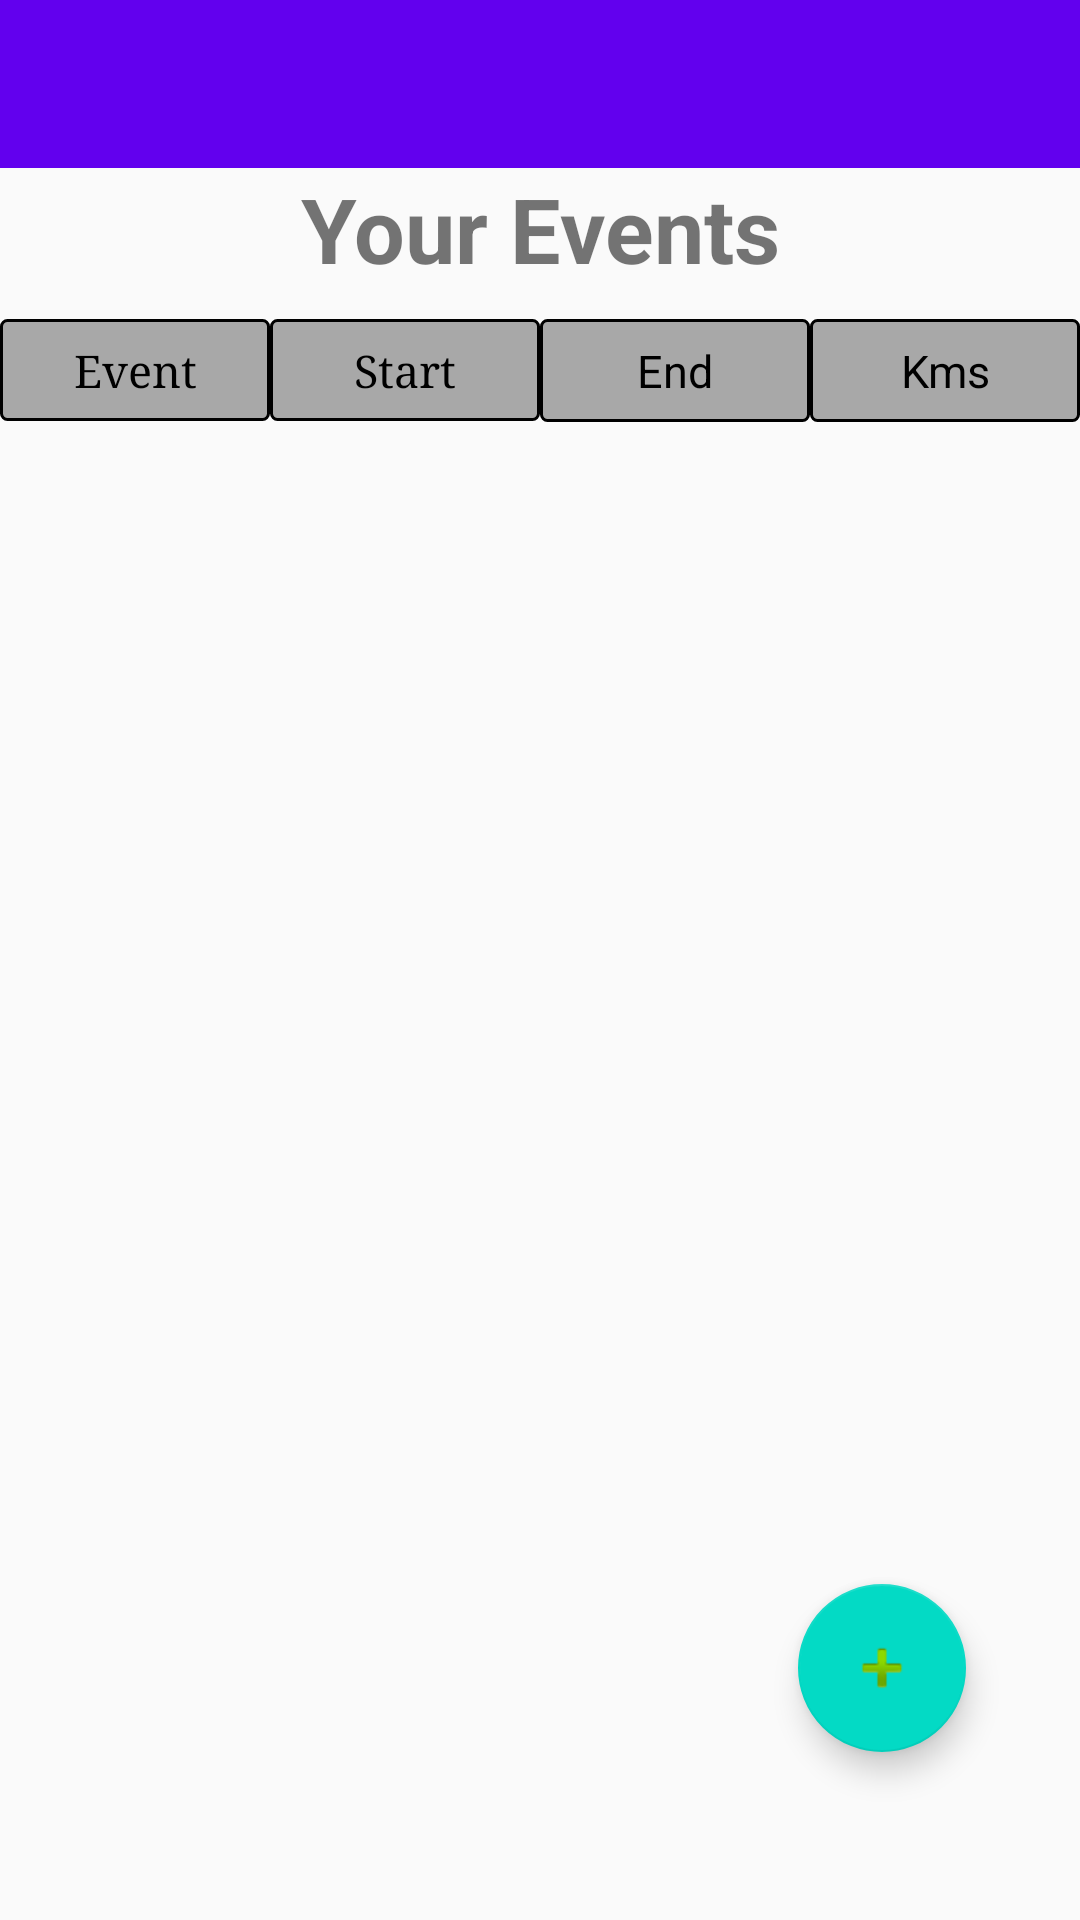

Icons on this 1080 x 1920 Android screen, each with the point to tap as point (x, y):
add: point (882, 1668)
